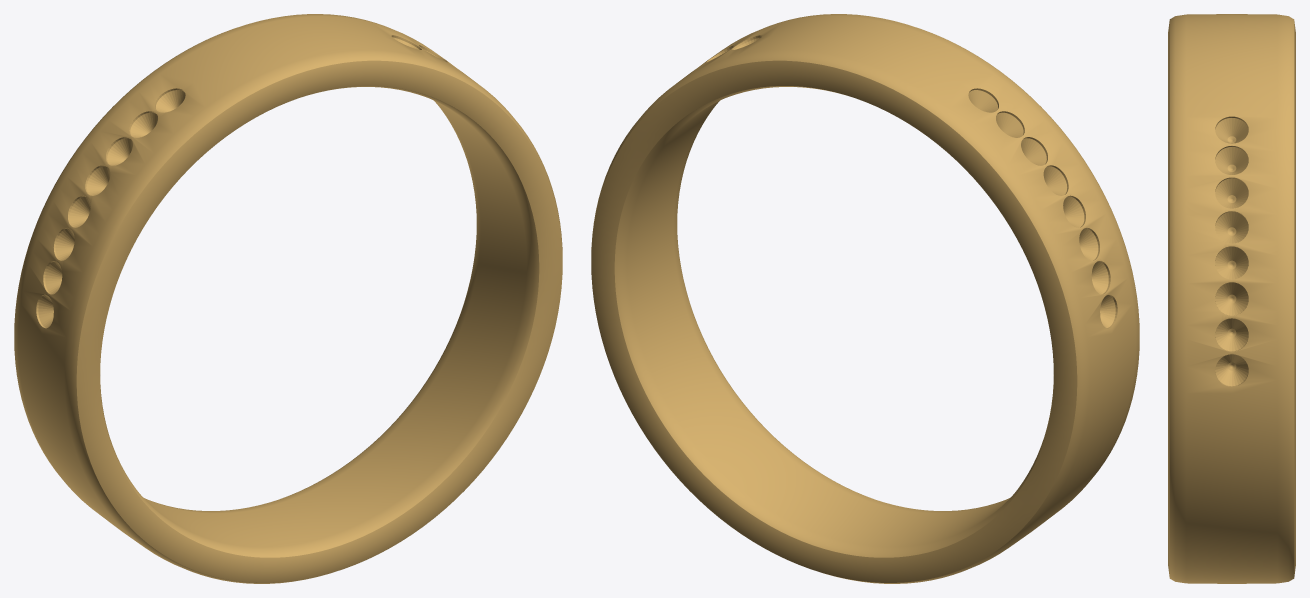
File: wide-micro-pave.glb
3 renders of one model, left to right at view 1: azimuth 30°, elevation 25°; view 2: azimuth 150°, elevation 25°; view 3: azimuth 270°, elevation 25°, orthographic.
Visible parts, largest first — view 1: Band; view 2: Band; view 3: Band.
Boxes of the visible parts, box(x1,y1,x2,y2) form: Band: box(14, 14, 562, 583); Band: box(591, 14, 1139, 583); Band: box(1168, 14, 1295, 583).
Size of the model in its own units: 19.6 by 19.6 by 4.4.
